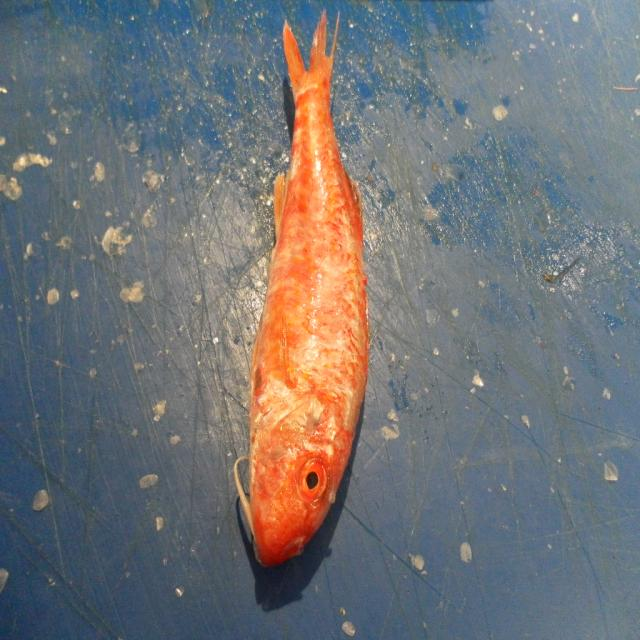Red-Mullet-kefal-: (247, 12, 369, 571)
